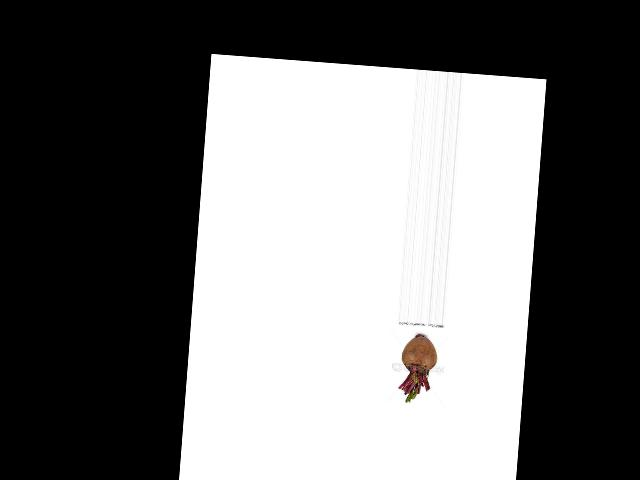beet: (397, 333, 439, 404)
